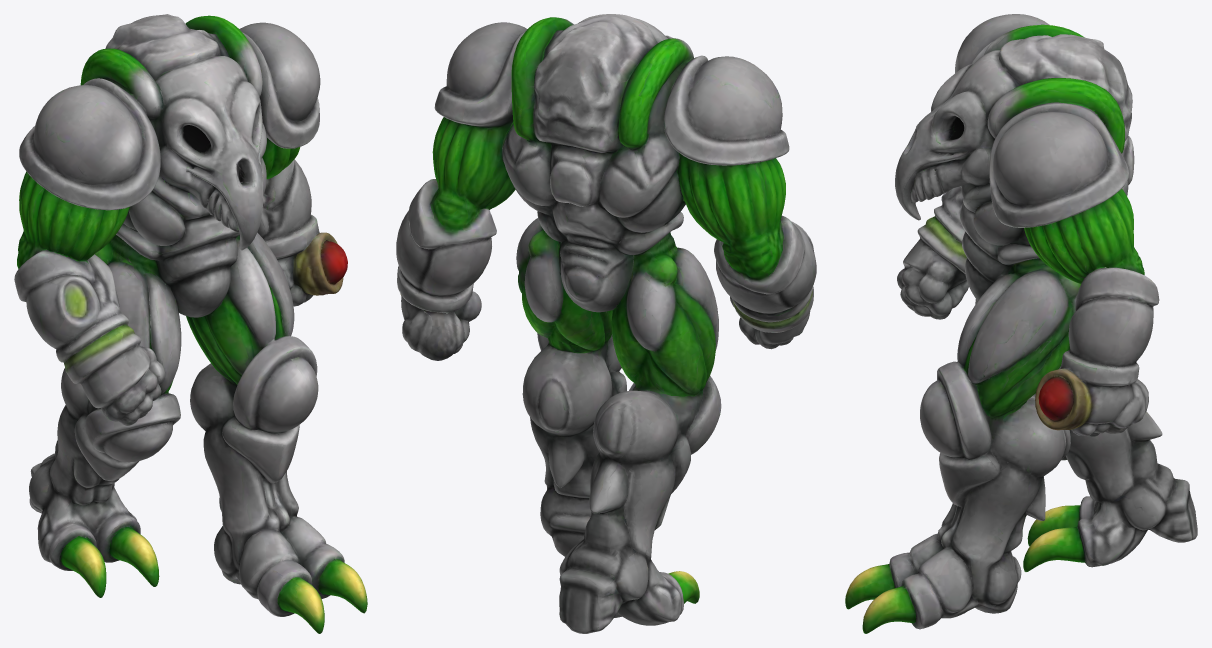
The model's file is BOSSC1_2026-08-14T201438.317.glb.
3 renders of one model, left to right at view 1: azimuth 30°, elevation 25°; view 2: azimuth 150°, elevation 25°; view 3: azimuth 270°, elevation 25°, orthographic. The views are drawn at different scales.
Visible parts, largest first — view 1: world; view 2: world; view 3: world.
Boxes of the visible parts, left/top/right/bottom form: world: left=14, top=14, right=367, bottom=633; world: left=396, top=14, right=816, bottom=633; world: left=845, top=14, right=1197, bottom=633.
Size of the model in its own units: 0.6794 by 1 by 0.5883.
Materials: 1 (1 with a texture image).
